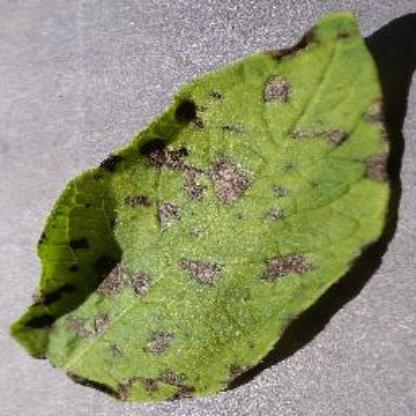Early-Blight: (11, 9, 400, 404)
